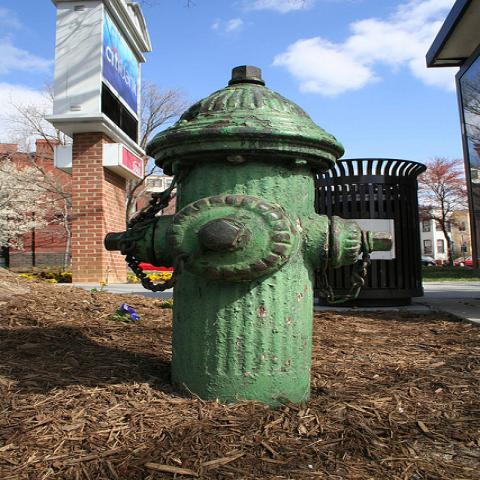car: (422, 256, 444, 267), (453, 256, 473, 267)
